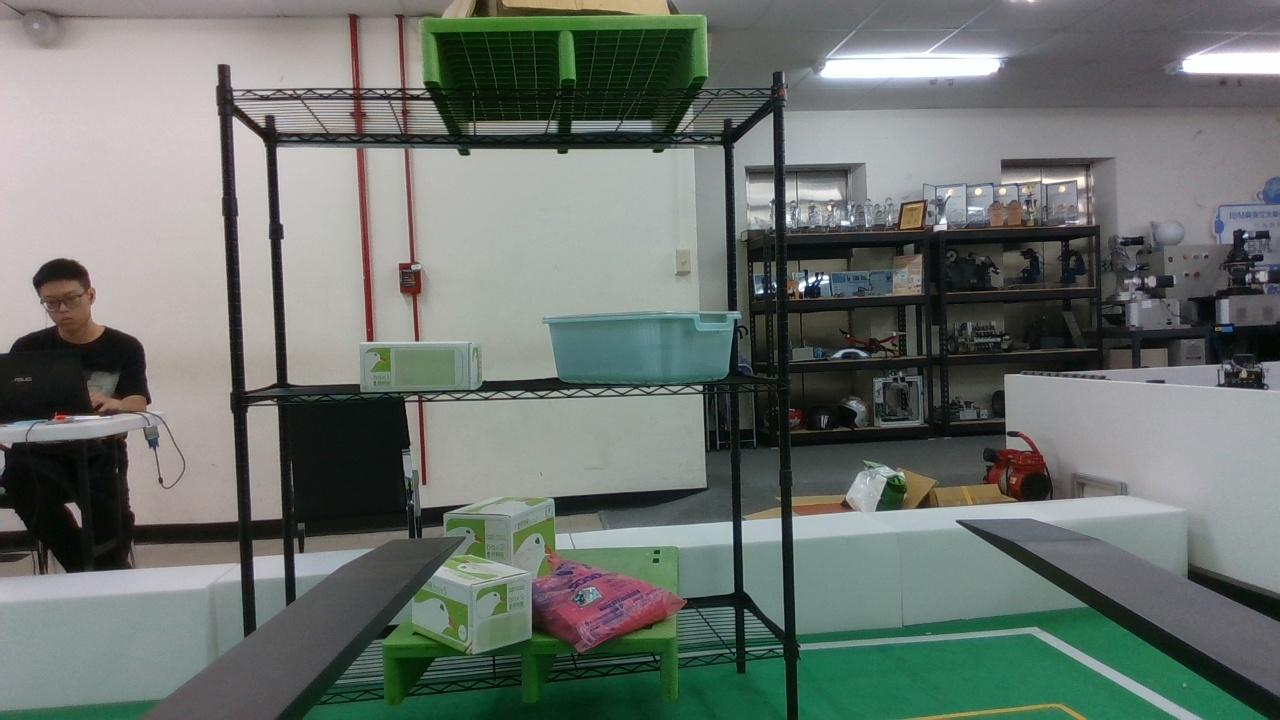Pallet: (419, 14, 709, 84), (382, 638, 678, 706)
